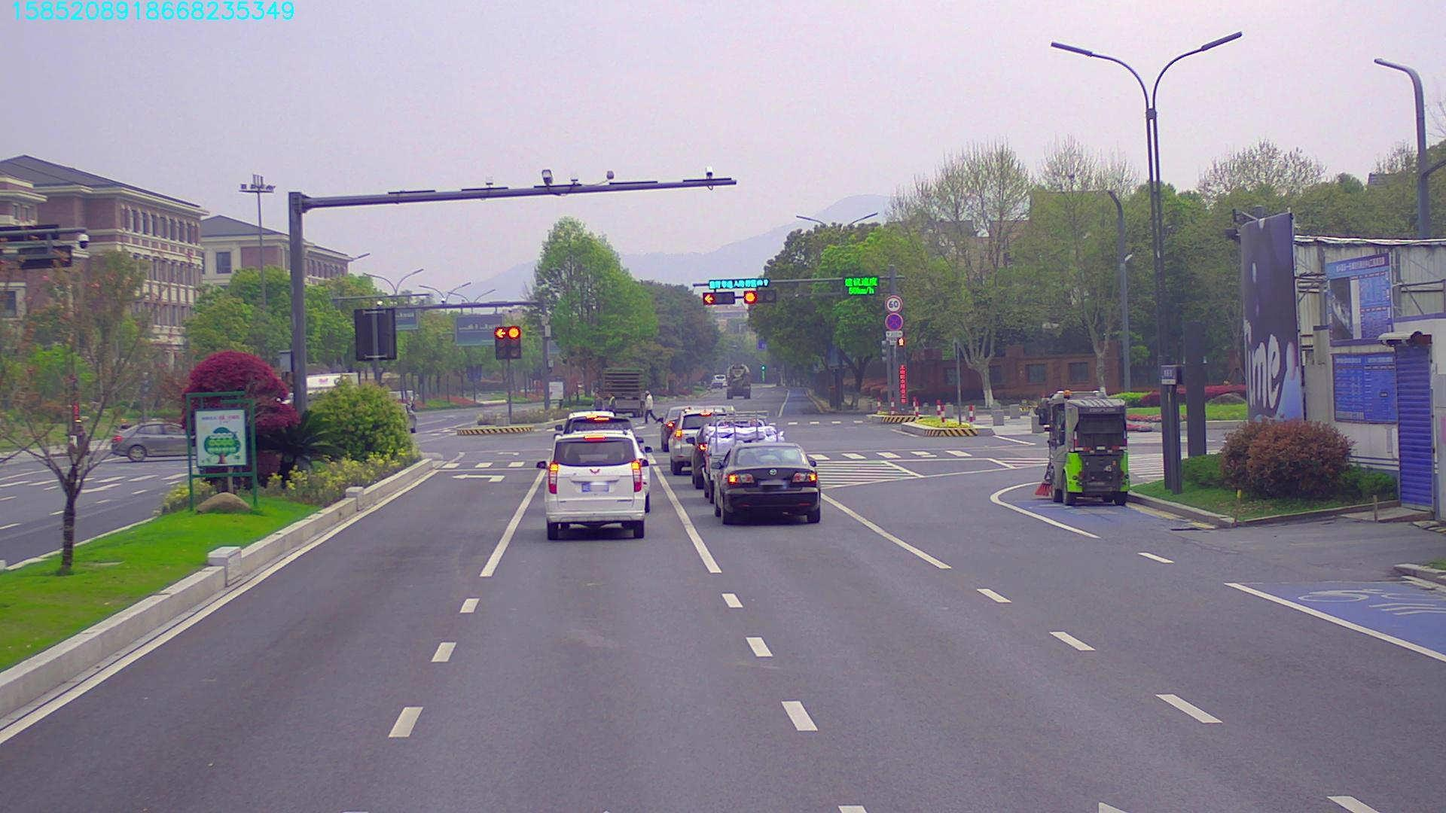red: (705, 290, 735, 306), (743, 291, 769, 301)
wait_on: (711, 278, 769, 288)
